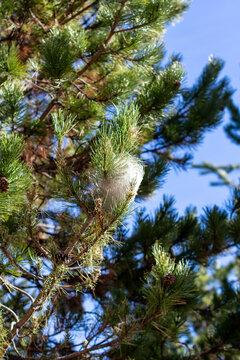thaumatopoea pityocampa jajno gnijezdo: (83, 145, 149, 244)
